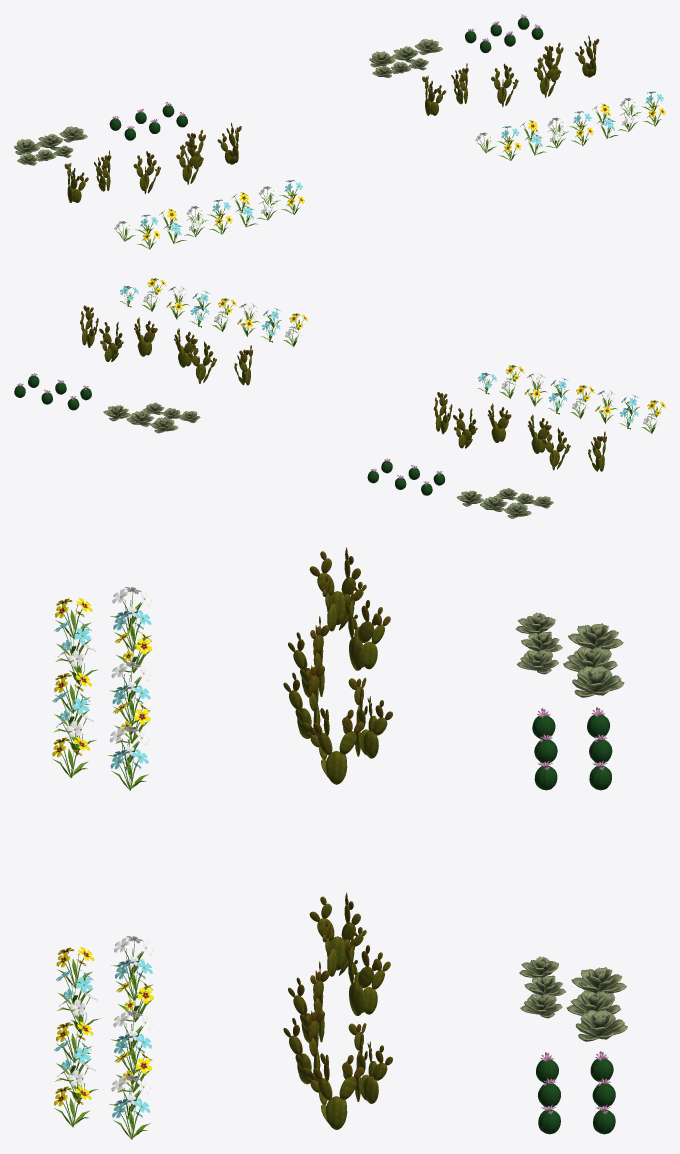
Rendered from PlantasInv.fbx.
3 views of the same model, one above another, from view 1: azimuth 30°, elevation 25°; view 2: azimuth 150°, elevation 25°; view 3: azimuth 270°, elevation 25° (orthographic). The views are drawn at different scales.
Parts seen in each view (by area): view 1: SculentasX, Plane.005, Plane.001, Cactus, Flores2.005, Flores2.004, Flores2.009, Flores2, Flores2.003, Flores2.006, Flores2.008, Flores2.002 (+2 smaller); view 2: Plane.005, Plane.001, SculentasX, Cactus, Flores2.004, Flores2.005, Flores2.006, Flores2.009, Flores2, Flores2.003, Flores2.008, Flores2.002 (+2 smaller); view 3: SculentasX, Plane.005, Plane.001, Cactus, Flores2, Flores2.009, Flores2.004, Flores2.005, Flores2.003, Flores2.006, Flores2.002, Flores2.007 (+2 smaller).
Part boxes in pixels (bbox=[...]): SculentasX: bbox=[14, 39, 442, 165]; Plane.005: bbox=[64, 122, 241, 202]; Plane.001: bbox=[422, 35, 599, 115]; Cactus: bbox=[109, 14, 543, 140]; Flores2.005: bbox=[114, 214, 160, 249]; Flores2.004: bbox=[475, 126, 521, 160]; Flores2.009: bbox=[258, 180, 304, 214]; Flores2: bbox=[620, 91, 665, 126]; Flores2.003: bbox=[547, 111, 593, 145]; Flores2.006: bbox=[186, 199, 232, 234]; Flores2.008: bbox=[231, 192, 277, 227]; Flores2.002: bbox=[520, 120, 566, 155]; Plane.005: bbox=[433, 392, 606, 471]; Plane.001: bbox=[80, 305, 252, 385]; SculentasX: bbox=[103, 402, 553, 518]; Cactus: bbox=[14, 373, 445, 495]; Flores2.004: bbox=[260, 313, 307, 347]; Flores2.005: bbox=[619, 400, 665, 433]; Flores2.006: bbox=[548, 385, 594, 418]; Flores2.009: bbox=[478, 365, 524, 398]; Flores2: bbox=[120, 278, 165, 311]; Flores2.003: bbox=[190, 298, 236, 331]; Flores2.008: bbox=[524, 373, 569, 406]; Flores2.002: bbox=[237, 303, 281, 336]; SculentasX: bbox=[516, 612, 627, 1041]; Plane.005: bbox=[283, 547, 392, 784]; Plane.001: bbox=[283, 892, 392, 1129]; Cactus: bbox=[532, 707, 615, 1134]; Flores2: bbox=[54, 1075, 150, 1139]; Flores2.009: bbox=[52, 726, 149, 790]; Flores2.004: bbox=[56, 936, 153, 1000]; Flores2.005: bbox=[55, 587, 151, 651]; Flores2.003: bbox=[56, 1010, 152, 1075]; Flores2.006: bbox=[54, 661, 150, 726]; Flores2.002: bbox=[56, 969, 153, 1033]; Flores2.007: bbox=[54, 620, 152, 684].
Size of the model in its own units: 2133 by 155 by 986.
234 materials, 214 textured.
